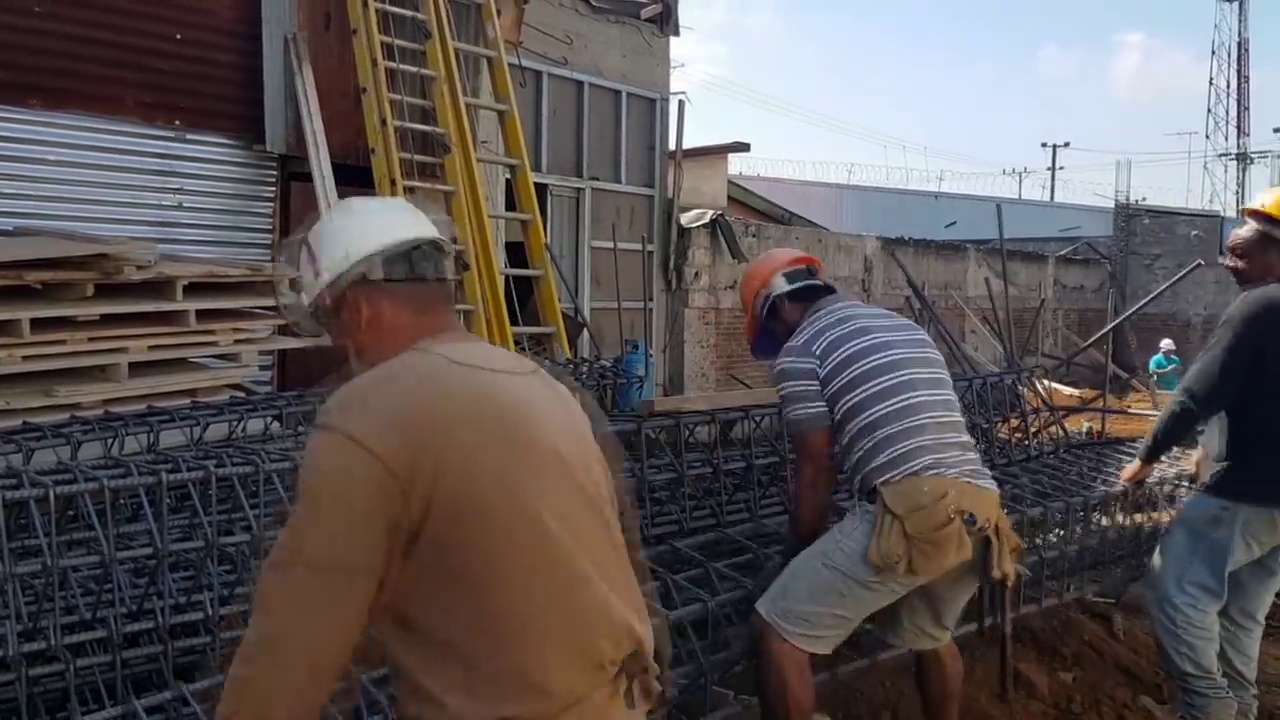helmet: (274, 193, 462, 319), (734, 245, 834, 337), (1238, 191, 1280, 223), (1158, 339, 1180, 352)
helmet-on: (267, 184, 483, 380), (731, 248, 840, 354), (1224, 194, 1280, 295), (1158, 339, 1179, 360)
person: (208, 192, 682, 720), (728, 244, 1019, 720), (1123, 189, 1278, 688), (1150, 339, 1184, 399)
